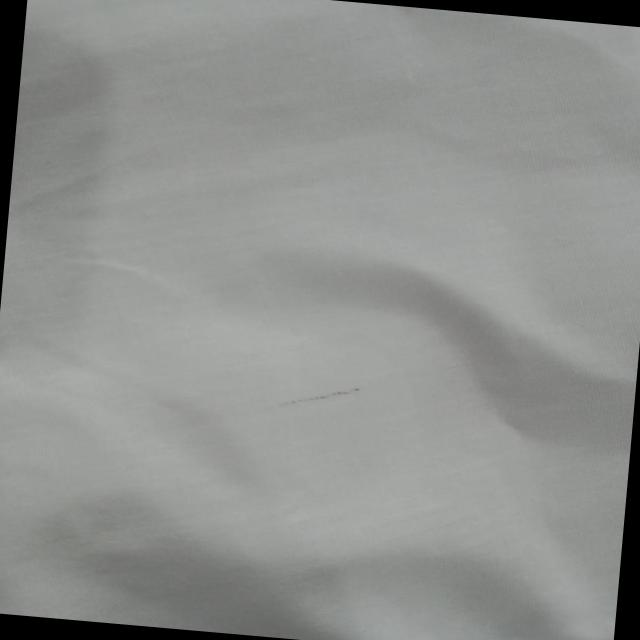contamination: (253, 368, 392, 422)
